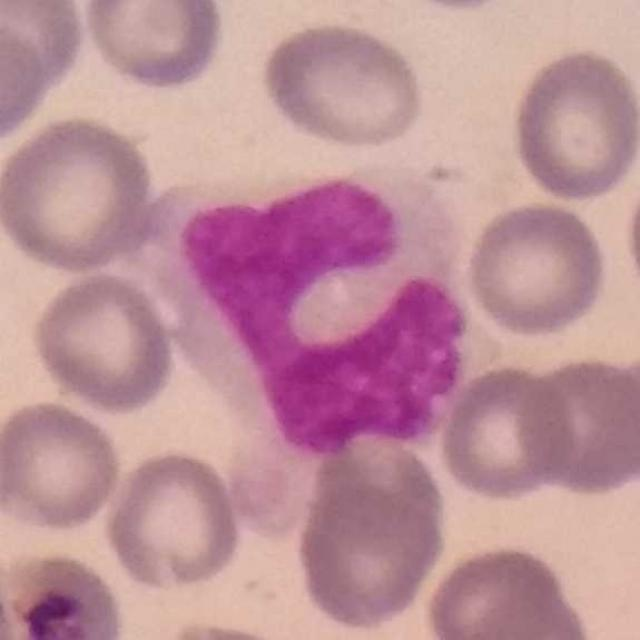mono: (132, 156, 518, 543)
